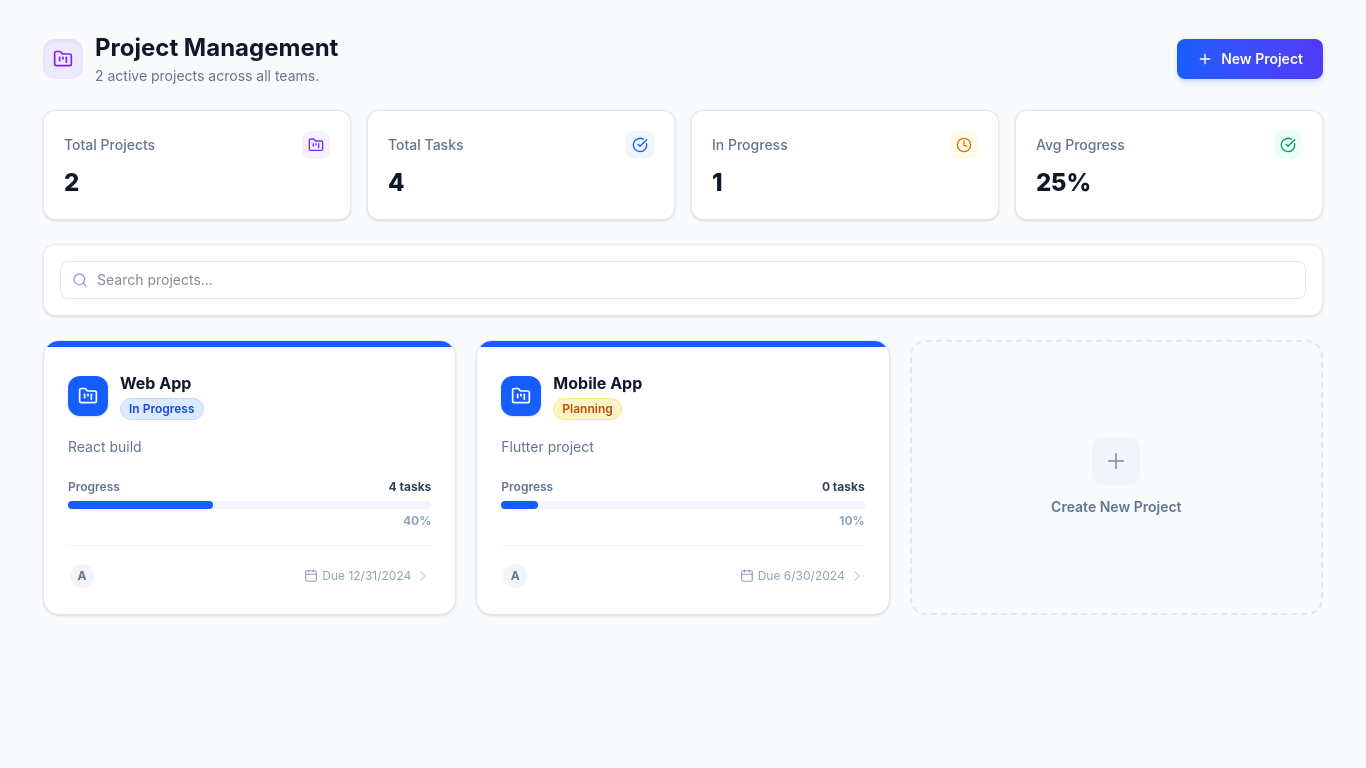
Test: Projects Component › navigates back from kanban to projects grid
The image size is (1366, 768).
Step 1. Click the heading "Web App" → [162, 383], box x1=120 y1=371 x2=204 y2=395
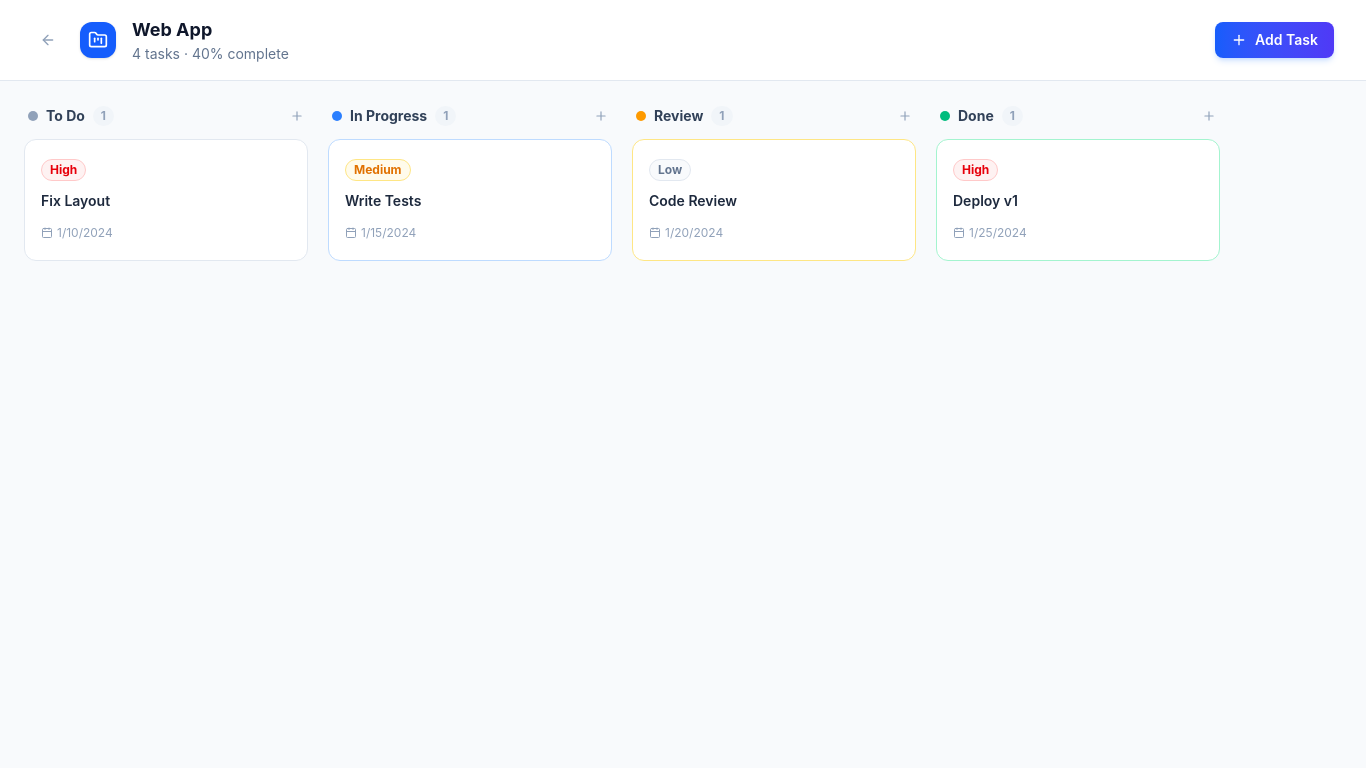
Now the text "Fix Layout" is shown, box x1=41 y1=192 x2=110 y2=209
// Click the back arrow button
Step 2. Click the button without text next to "Web App" → [48, 40], box x1=32 y1=24 x2=64 y2=56
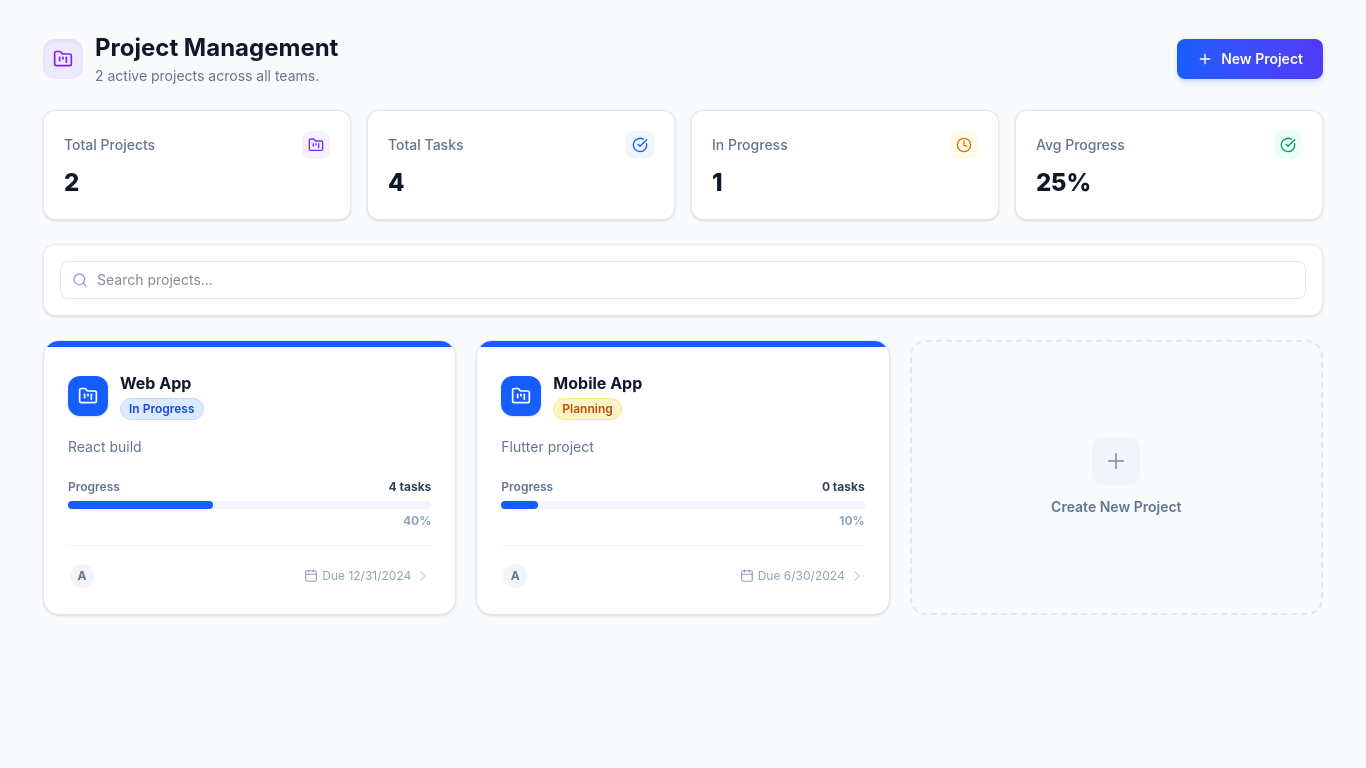
Now the heading "Project Management" is shown, box x1=95 y1=32 x2=338 y2=64
